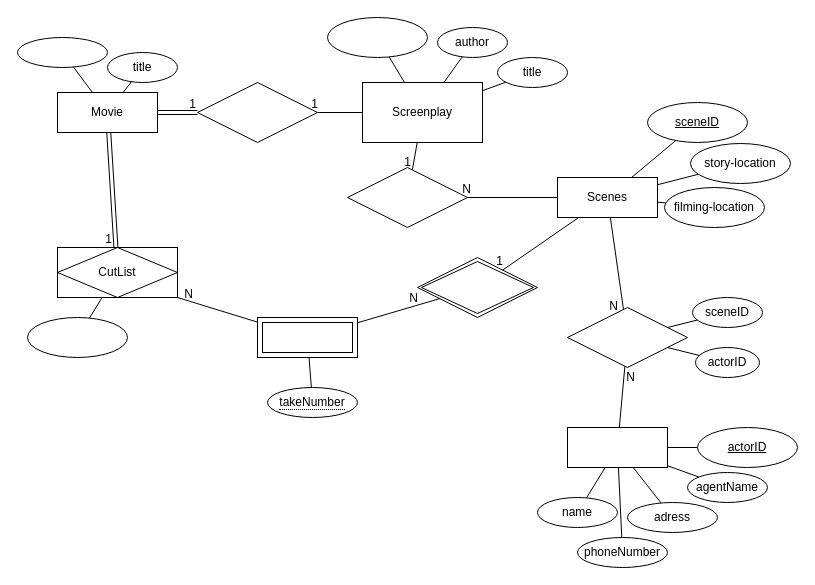
Some shapes in this 815 by 585 pixel diagram are drawn without their labels. The shapes that lost their labels are listed below. From the top down, each one's centre as x and y in pixels, then its label:
pixel 62 52: movieID
pixel 377 37: screenplayID
pixel 257 112: Based on
pixel 407 197: Scenes of
pixel 477 287: Has Takes
pixel 77 337: orderNumber
pixel 307 337: Take
pixel 627 337: Acts in
pixel 617 447: Actor
